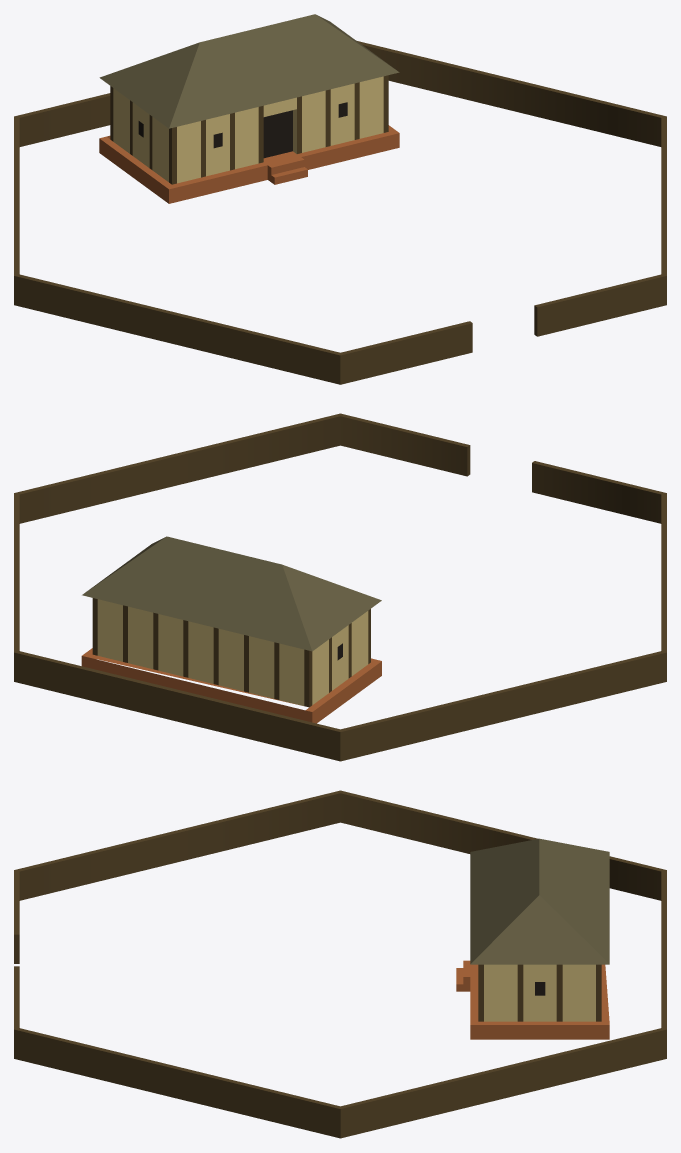
Rendered from MJ_Building_House_T1_v2.fbx.
The picture shows the model from 3 angles, top to bottom: view 1: azimuth 30°, elevation 25°; view 2: azimuth 150°, elevation 25°; view 3: azimuth 270°, elevation 25°; orthographic projection.
Parts seen in each view (by area): view 1: Group1, Model; view 2: Model, Group1; view 3: Model, Group1.
Boxes of the visible parts, x1,y1,x2,y2 form: Group1: (99, 14, 399, 203); Model: (14, 40, 666, 384); Model: (14, 413, 666, 761); Group1: (81, 536, 381, 723); Model: (14, 790, 666, 1138); Group1: (456, 838, 609, 1039).
Size of the model in its own units: 5.82 by 1.03 by 5.04.
